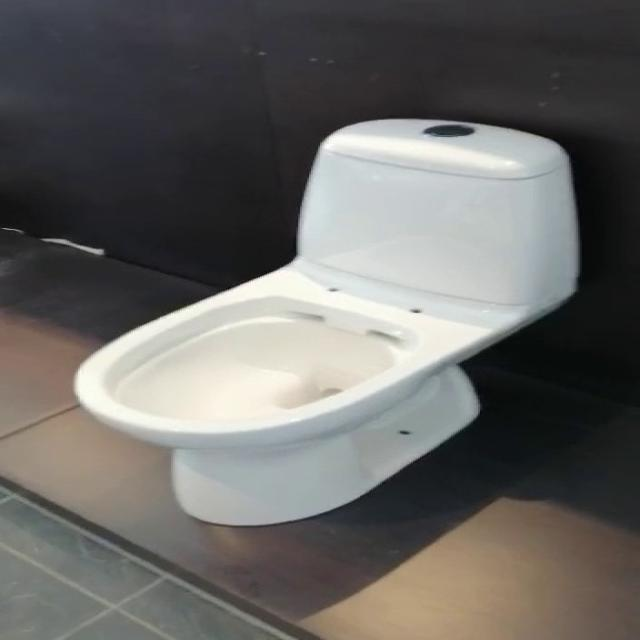toilet: (73, 116, 580, 526)
